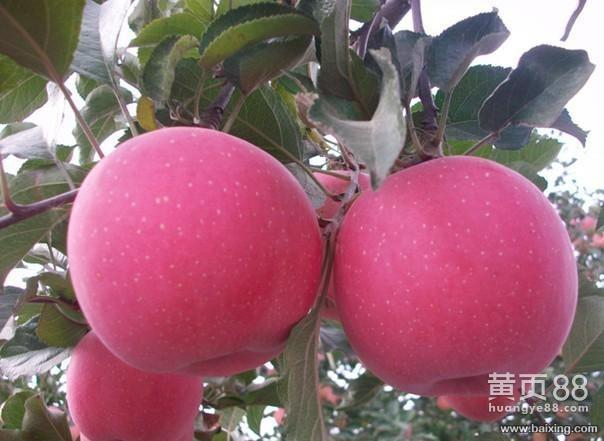apple: (68, 128, 318, 374), (335, 156, 576, 391)
